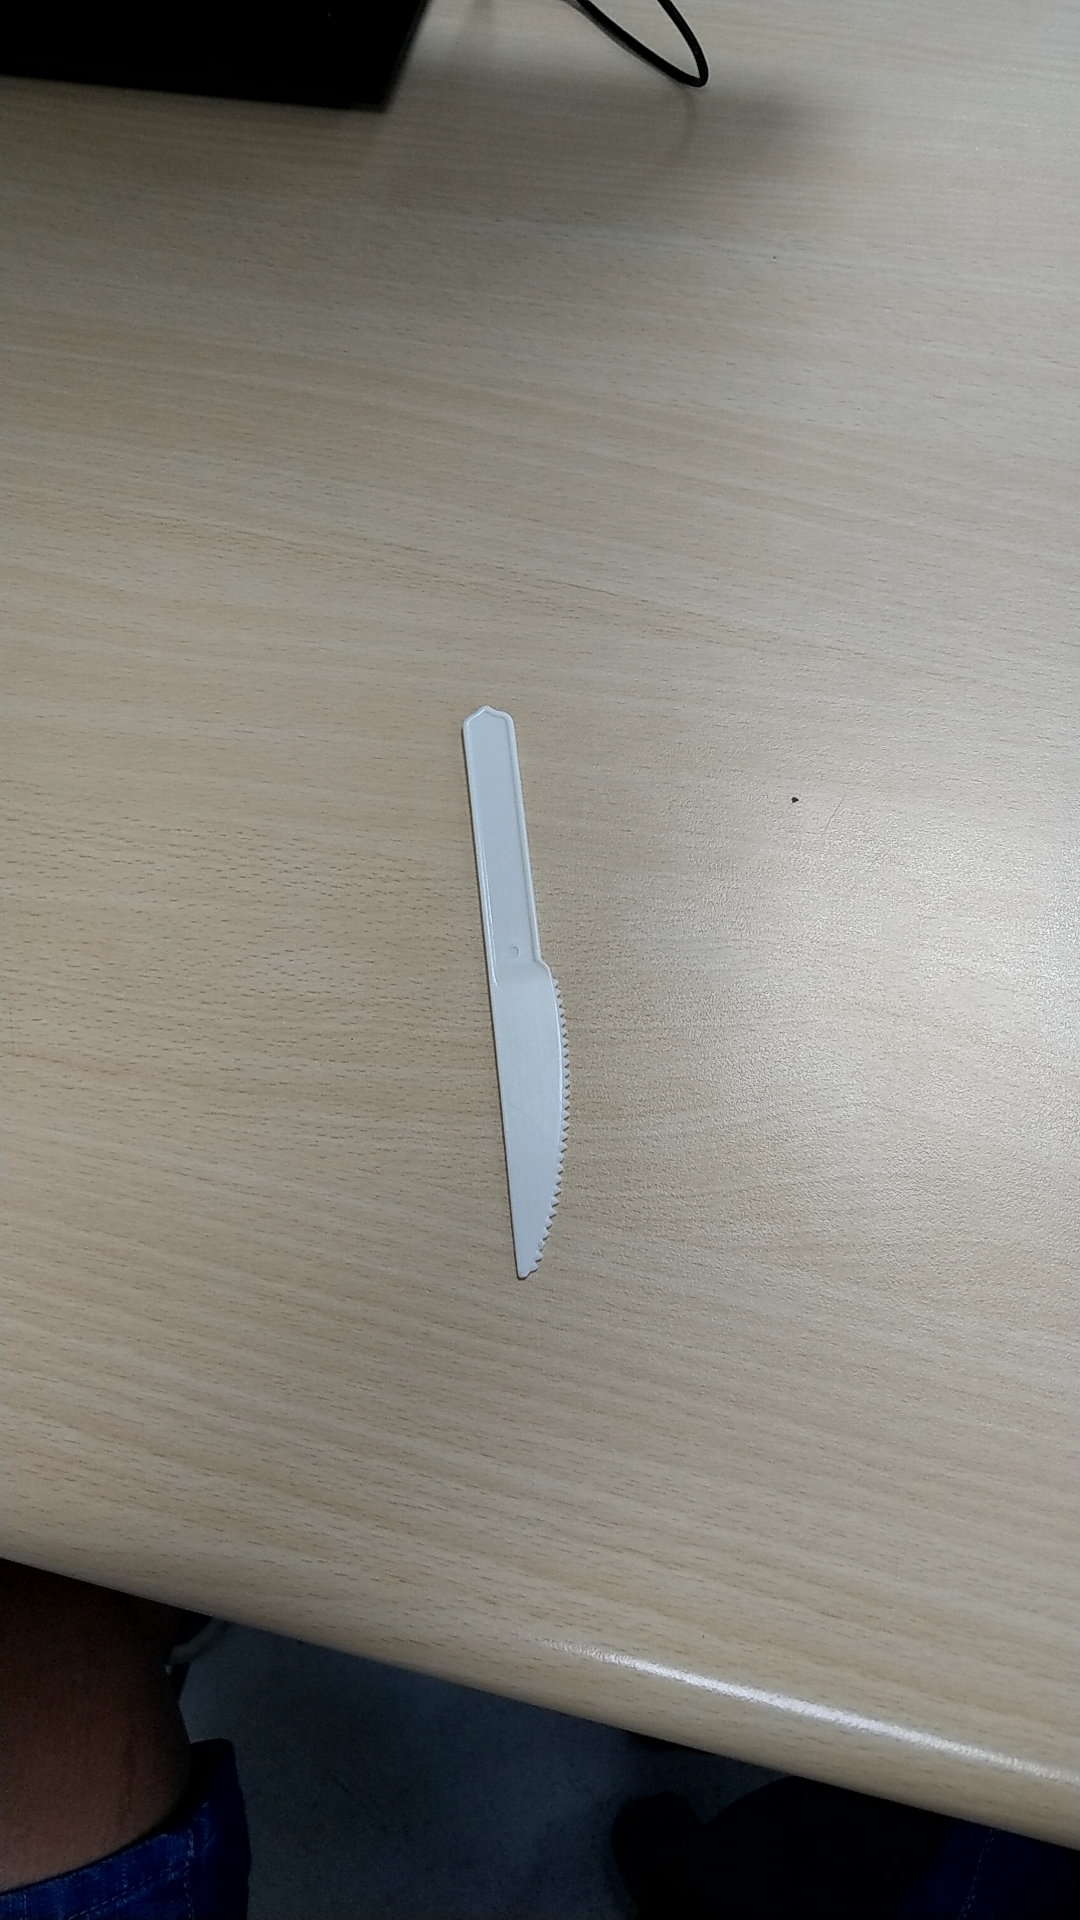knife: (415, 698, 622, 1286)
